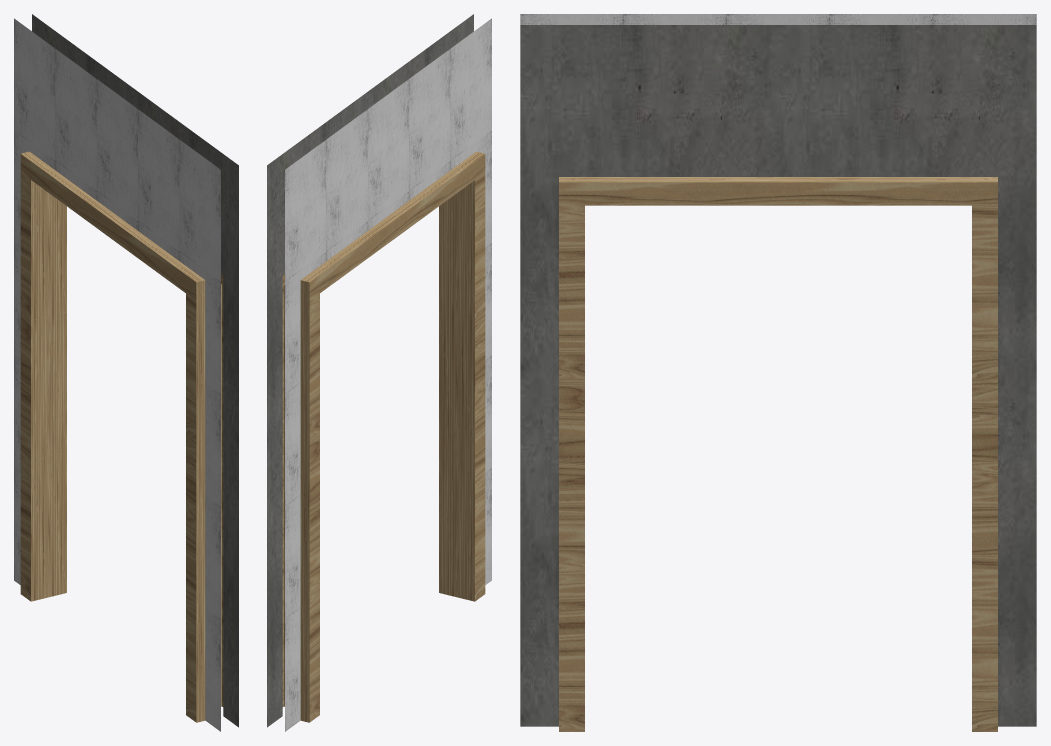
Rendered from DoorFrame002.FBX.
3 renders of one model, left to right at view 1: azimuth 30°, elevation 25°; view 2: azimuth 150°, elevation 25°; view 3: azimuth 270°, elevation 25°, orthographic. The views are drawn at different scales.
Parts seen in each view (by area): view 1: DoorFrame003; view 2: DoorFrame003; view 3: DoorFrame003.
Boxes of the visible parts, x1,y1,x2,y2 form: DoorFrame003: (14,14,238,731); DoorFrame003: (267,14,491,731); DoorFrame003: (520,14,1036,731).
Size of the model in its own units: 20 by 300 by 200.
